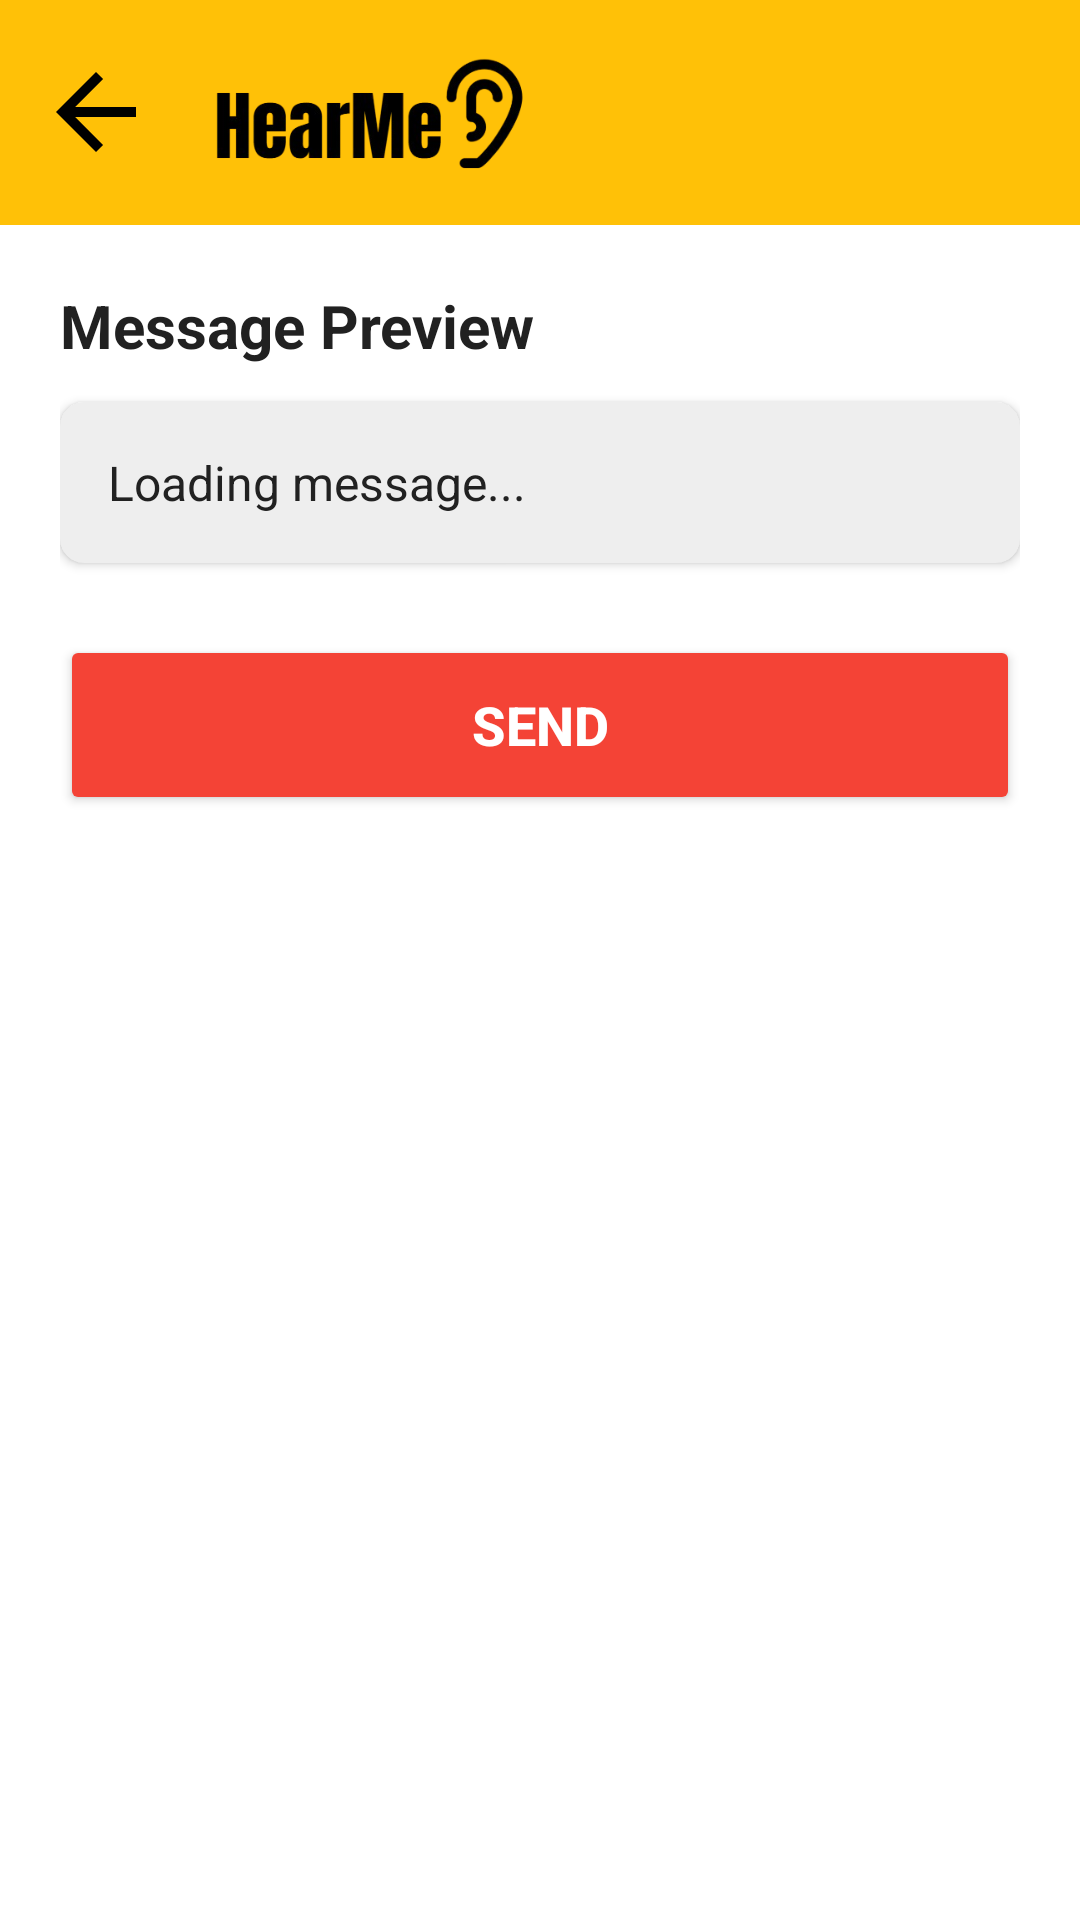

Named icons in this screenshot (1080w x 1920h) and their bounding boxes, (x1=x1, y1=y1, x2=x2, y2=y2):
back: (x1=56, y1=72, x2=136, y2=152)
